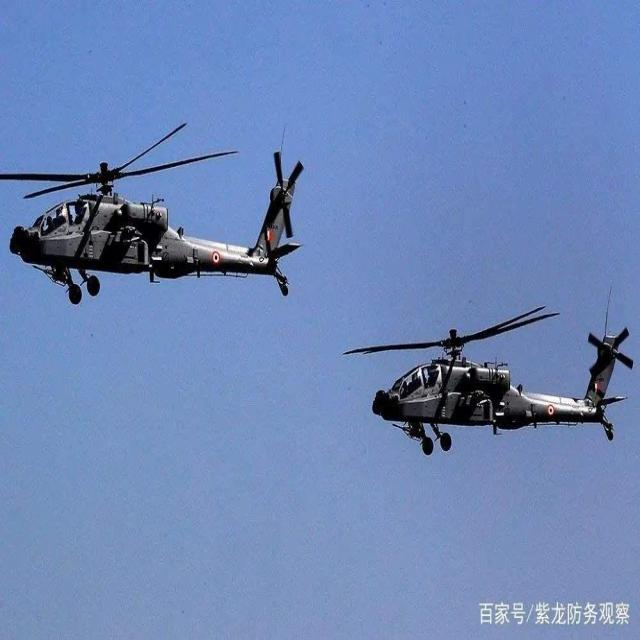MIL_HELO: (2, 115, 309, 304), (342, 306, 636, 465)
